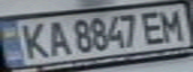4: (106, 12, 127, 50)
7: (121, 11, 142, 47)
8: (69, 16, 93, 53), (90, 15, 109, 52)
A: (42, 18, 72, 56)
E: (139, 8, 169, 45)
K: (15, 19, 51, 60)
M: (157, 7, 190, 43)
